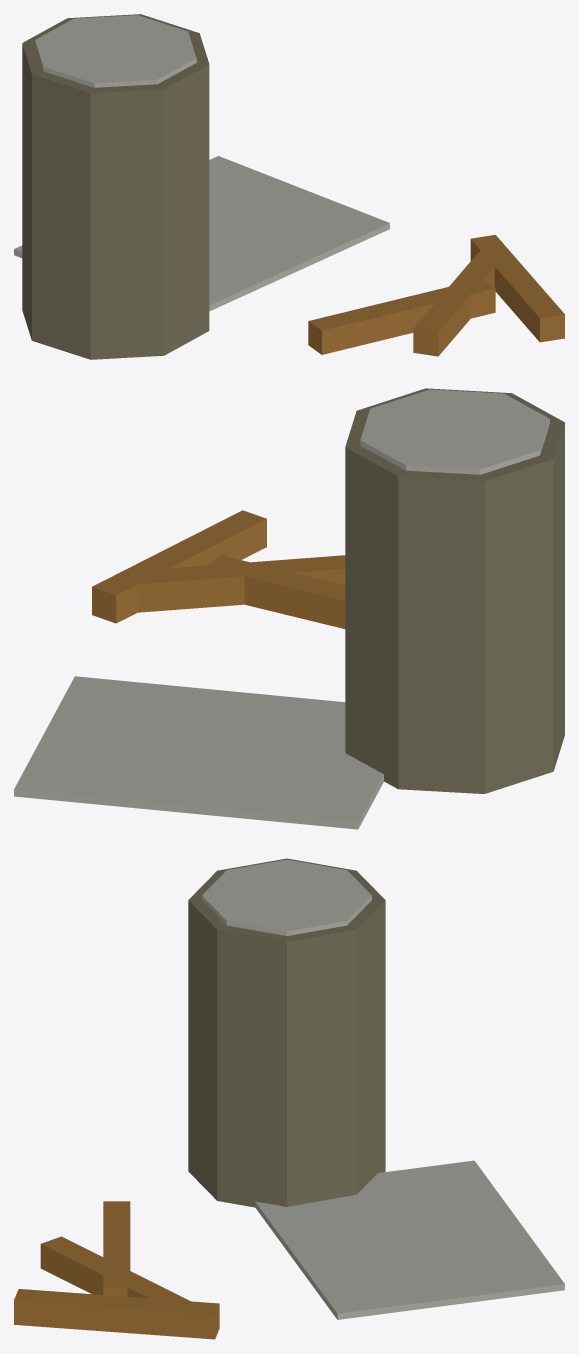
File: SM_BidonFuego_v4_Apagado_LOD1.fbx
The picture shows the model from 3 angles, top to bottom: view 1: azimuth 30°, elevation 25°; view 2: azimuth 150°, elevation 25°; view 3: azimuth 270°, elevation 25°; orthographic projection. The views are drawn at different scales.
Visible parts, largest first — view 1: SM_vida_fuerte_v4_LOD1; view 2: SM_vida_fuerte_v4_LOD1; view 3: SM_vida_fuerte_v4_LOD1.
Boxes of the visible parts, left/top/right/bottom form: SM_vida_fuerte_v4_LOD1: left=14, top=14, right=564, bottom=359; SM_vida_fuerte_v4_LOD1: left=14, top=388, right=564, bottom=829; SM_vida_fuerte_v4_LOD1: left=14, top=858, right=564, bottom=1339.
Size of the model in its own units: 1.48 by 0.895 by 1.62.
